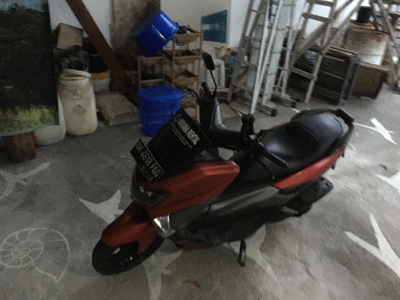moto: (104, 85, 358, 267)
